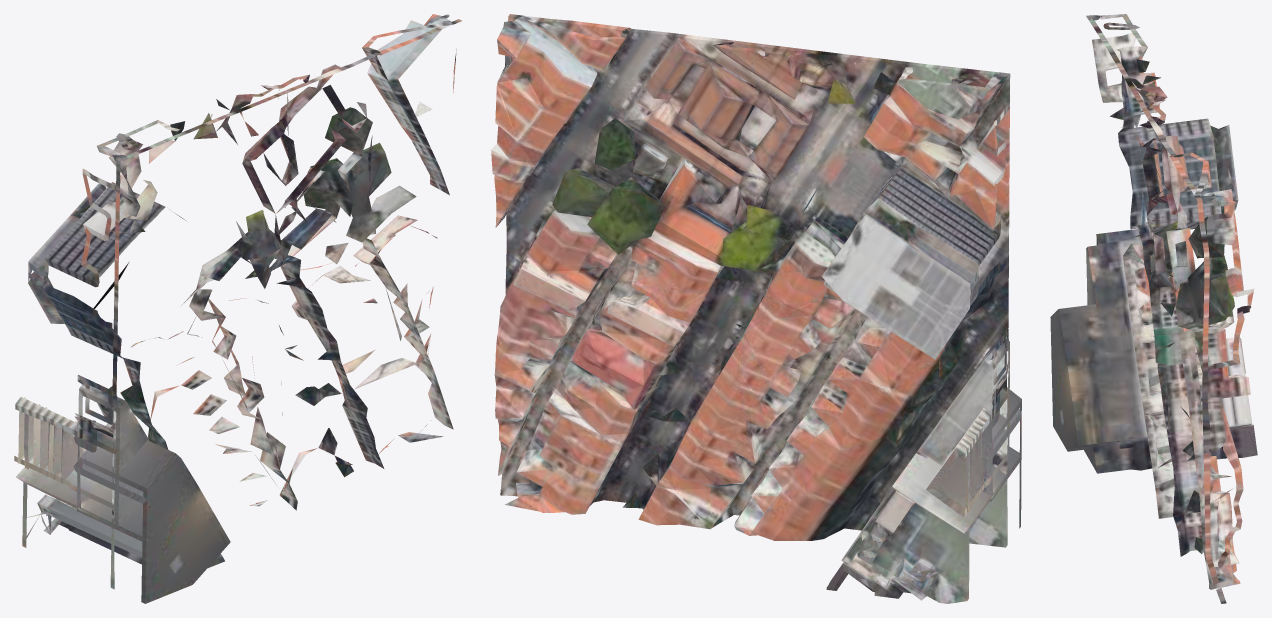
The model's file is tile_118.glb.
3 renders of one model, left to right at view 1: azimuth 30°, elevation 25°; view 2: azimuth 150°, elevation 25°; view 3: azimuth 270°, elevation 25°, orthographic. The views are drawn at different scales.
Size of the model in its own units: 160 by 153 by 70.16.
2 materials, 2 textured.
